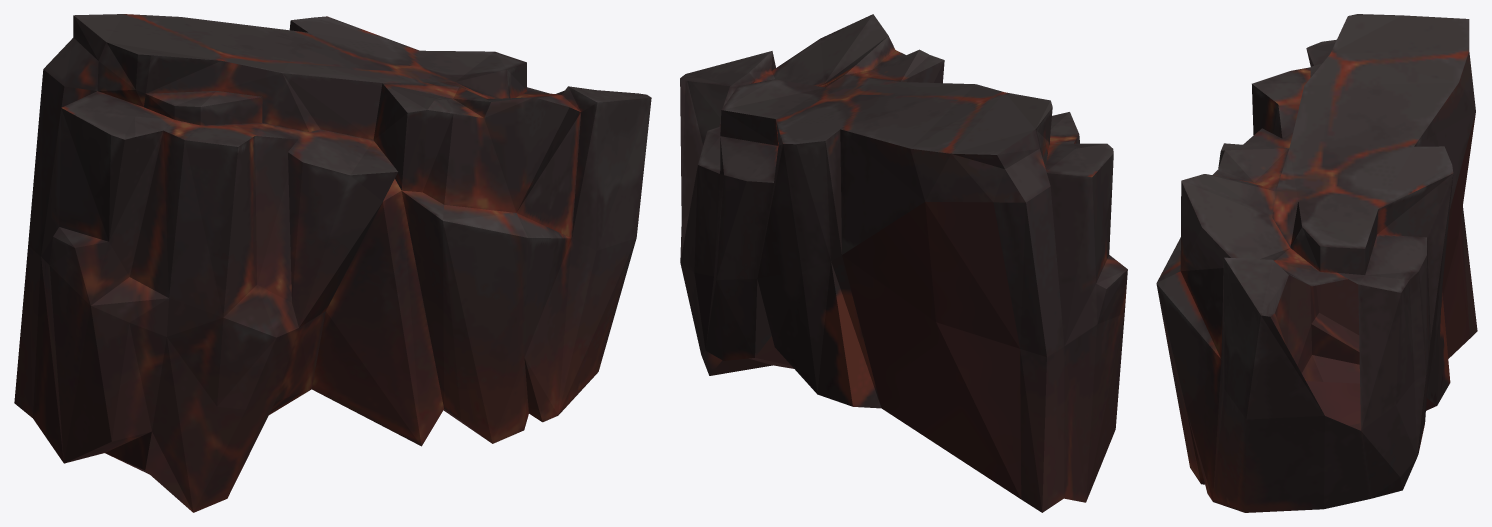
File: sn_jingyanFB_shanshi01_07.FBX
3 renders of one model, left to right at view 1: azimuth 30°, elevation 25°; view 2: azimuth 150°, elevation 25°; view 3: azimuth 270°, elevation 25°, orthographic. The views are drawn at different scales.
Parts seen in each view (by area): view 1: sn_jingyanFB_shanshi01_07; view 2: sn_jingyanFB_shanshi01_07; view 3: sn_jingyanFB_shanshi01_07.
Boxes of the visible parts, box(x1,y1,x2,y2) form: sn_jingyanFB_shanshi01_07: box(14, 14, 651, 512); sn_jingyanFB_shanshi01_07: box(680, 14, 1127, 512); sn_jingyanFB_shanshi01_07: box(1156, 14, 1477, 512).
Bounding box in the file's own units: 2480 × 1457 × 1932.
